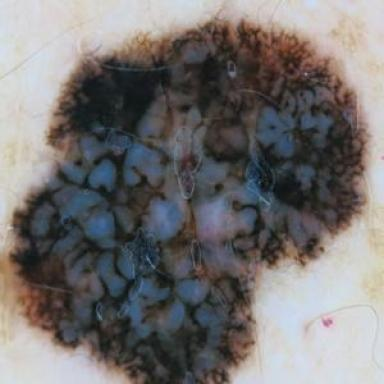Melanoma: (8, 16, 372, 384)
